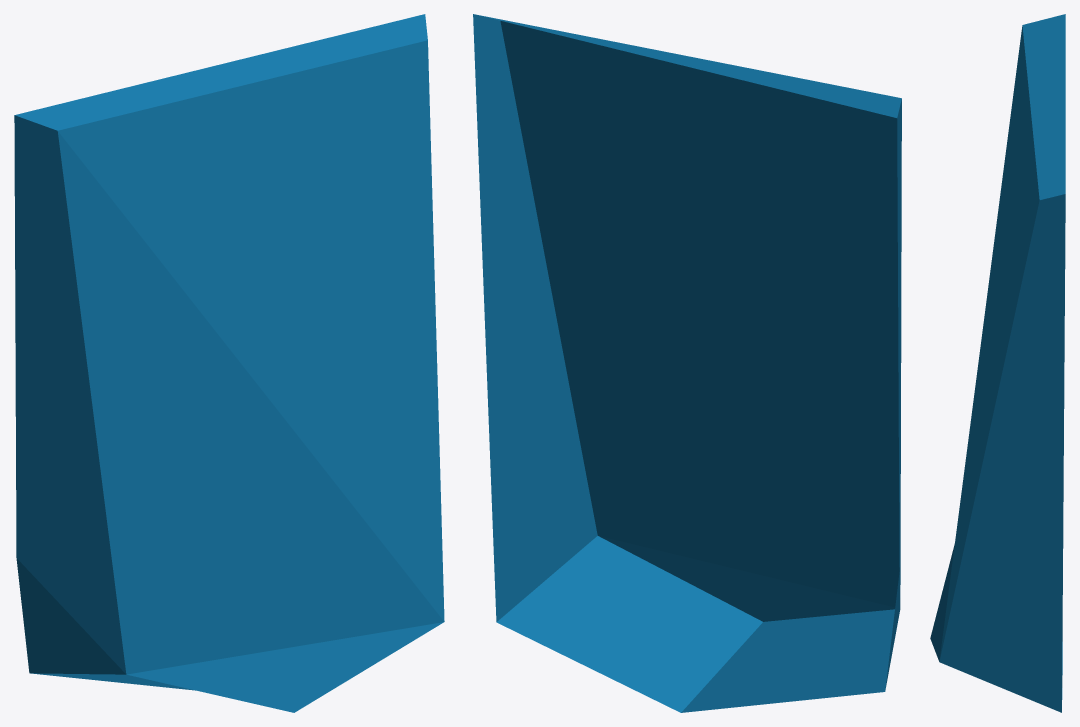
File: Teja3Pivoteada.fbx
The picture shows the model from 3 angles, left to right: view 1: azimuth 30°, elevation 25°; view 2: azimuth 150°, elevation 25°; view 3: azimuth 270°, elevation 25°; orthographic projection. The views are drawn at different scales.
Visible parts, largest first — view 1: Teja3_LOD1; view 2: Teja3_LOD1; view 3: Teja3_LOD1.
Boxes of the visible parts, x1,y1,x2,y2 form: Teja3_LOD1: (14,14,444,712); Teja3_LOD1: (473,14,901,712); Teja3_LOD1: (930,14,1065,712).
Size of the model in its own units: 18.73 by 86.62 by 59.16.
